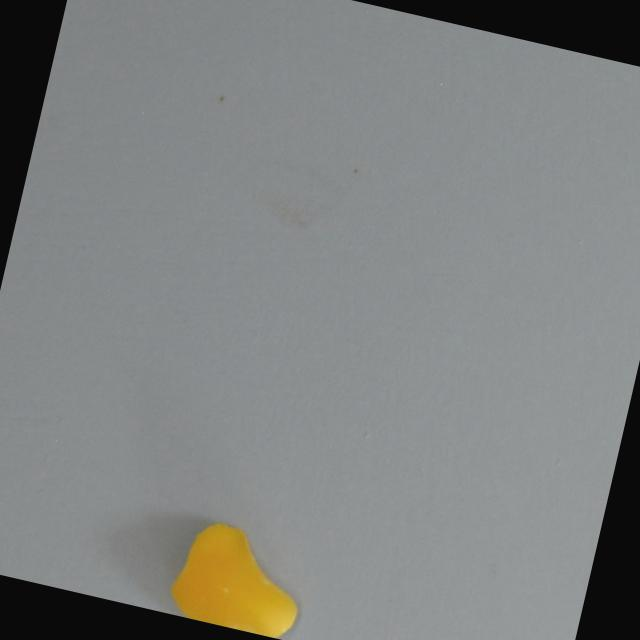estandar: (158, 511, 315, 640)
